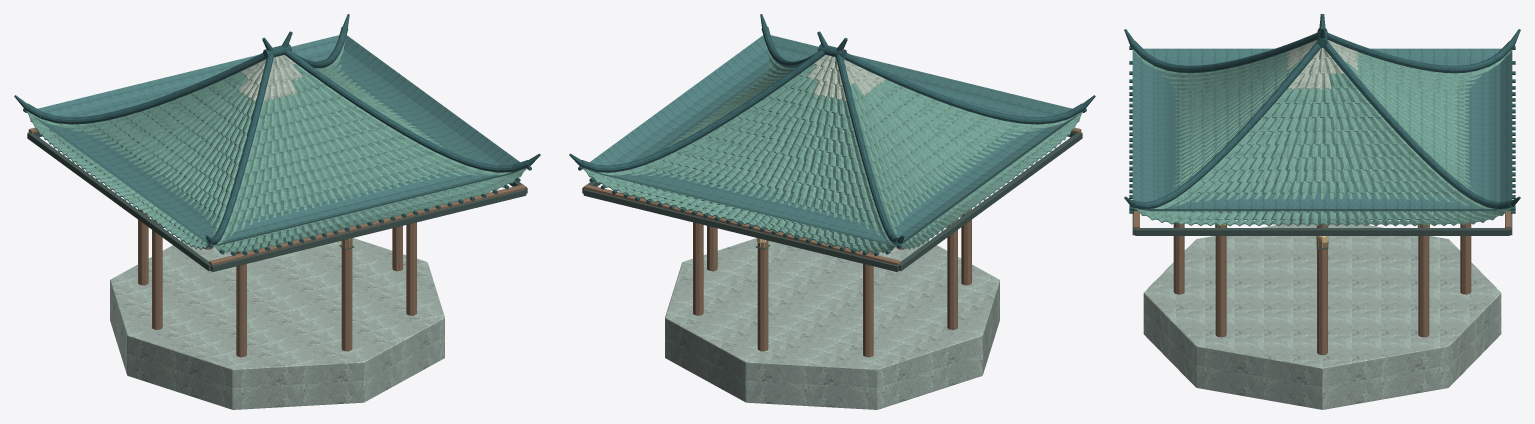
The model's file is reference-public_models_places_dicuiting.glb.
3 views of the same model, side by side, from view 1: azimuth 30°, elevation 25°; view 2: azimuth 150°, elevation 25°; view 3: azimuth 270°, elevation 25° (orthographic). The views are drawn at different scales.
Parts seen in each view (by area): view 1: dicuiting_stone.001, dicuiting_tile.001, dicuiting_roof.001, dicuiting_tiledark, dicuiting_wood.001, dicuiting_darkwood, dicuiting_tilelight; view 2: dicuiting_stone.001, dicuiting_tile.001, dicuiting_roof.001, dicuiting_tiledark, dicuiting_wood.001, dicuiting_darkwood, dicuiting_tilelight; view 3: dicuiting_stone.001, dicuiting_tile.001, dicuiting_roof.001, dicuiting_tiledark, dicuiting_wood.001, dicuiting_darkwood, dicuiting_tilelight.
Part boxes in pixels (x1=…): dicuiting_stone.001: x1=110, y1=229, x2=444, y2=409; dicuiting_tile.001: x1=26, y1=38, x2=527, y2=252; dicuiting_roof.001: x1=30, y1=35, x2=523, y2=245; dicuiting_tiledark: x1=14, y1=14, x2=540, y2=256; dicuiting_wood.001: x1=28, y1=127, x2=526, y2=357; dicuiting_darkwood: x1=27, y1=132, x2=527, y2=271; dicuiting_tilelight: x1=236, y1=55, x2=303, y2=103; dicuiting_stone.001: x1=665, y1=229, x2=999, y2=409; dicuiting_tile.001: x1=582, y1=37, x2=1083, y2=252; dicuiting_roof.001: x1=586, y1=35, x2=1079, y2=245; dicuiting_tiledark: x1=569, y1=14, x2=1095, y2=256; dicuiting_wood.001: x1=583, y1=127, x2=1081, y2=357; dicuiting_darkwood: x1=582, y1=132, x2=1082, y2=271; dicuiting_tilelight: x1=806, y1=55, x2=885, y2=102; dicuiting_stone.001: x1=1143, y1=224, x2=1501, y2=409; dicuiting_tile.001: x1=1132, y1=49, x2=1512, y2=226; dicuiting_roof.001: x1=1132, y1=48, x2=1512, y2=211; dicuiting_tiledark: x1=1124, y1=14, x2=1520, y2=213; dicuiting_wood.001: x1=1133, y1=211, x2=1511, y2=354; dicuiting_darkwood: x1=1132, y1=213, x2=1512, y2=249; dicuiting_tilelight: x1=1287, y1=40, x2=1357, y2=90.
Size of the model in its own units: 11.15 by 9.68 by 11.08.
9 materials, 8 textured.
